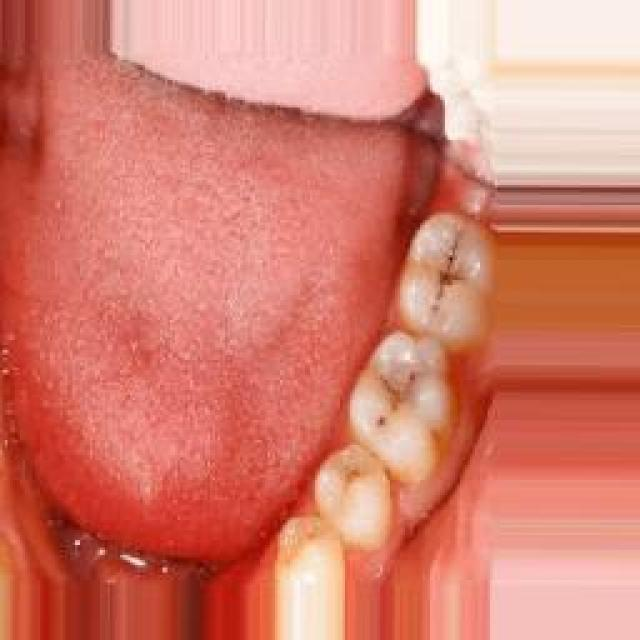caries: (370, 365, 423, 428), (425, 243, 468, 316)
